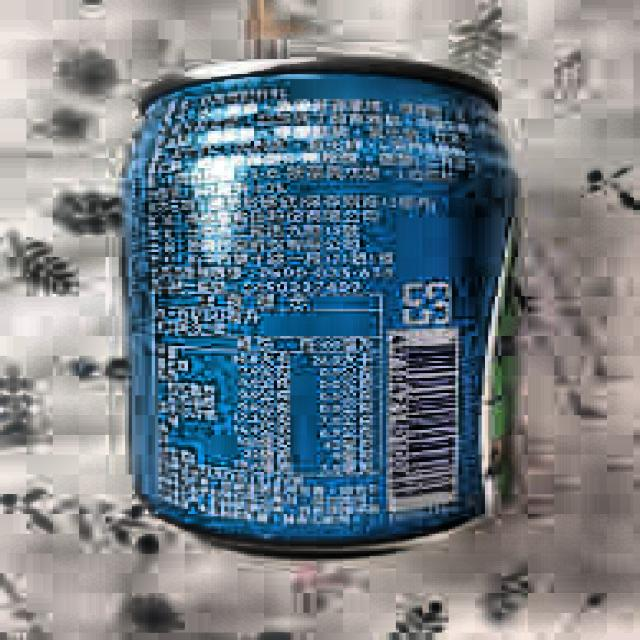can: (103, 47, 529, 570)
